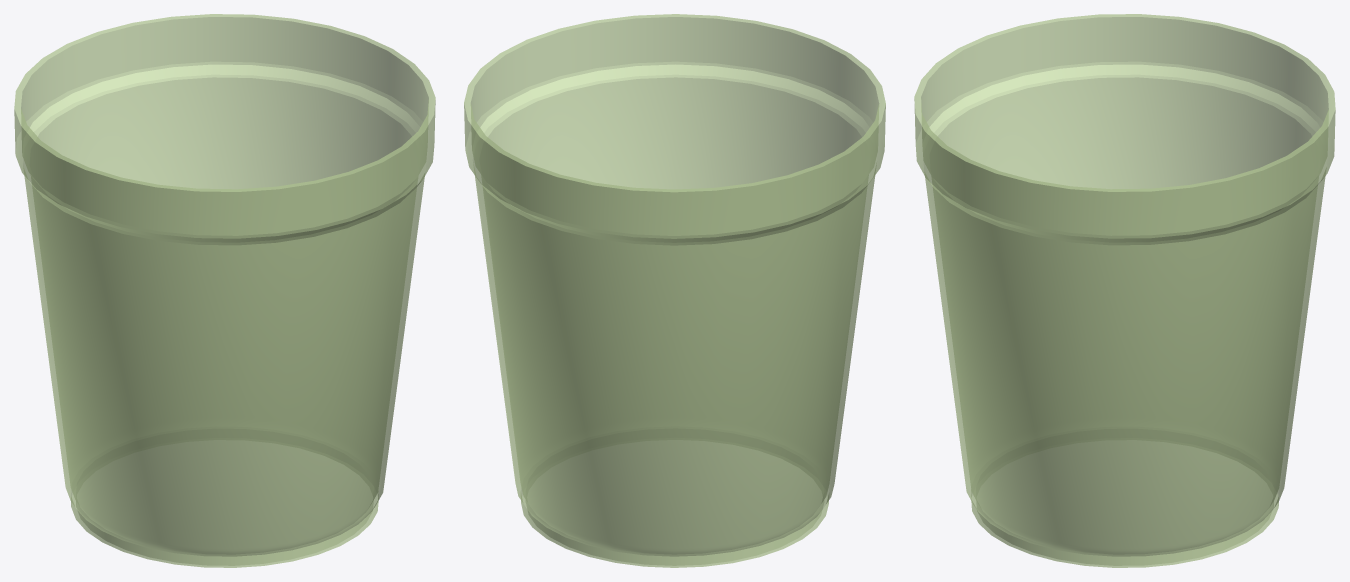
Rendered from coc1.fbx.
The picture shows the model from 3 angles, left to right: view 1: azimuth 30°, elevation 25°; view 2: azimuth 150°, elevation 25°; view 3: azimuth 270°, elevation 25°; orthographic projection.
Visible parts, largest first — view 1: Cylinder.033; view 2: Cylinder.033; view 3: Cylinder.033.
Boxes of the visible parts, <box> form: Cylinder.033: <box>14,14,435,567</box>; Cylinder.033: <box>464,14,885,567</box>; Cylinder.033: <box>914,14,1335,567</box>.
Size of the model in its own units: 69.72 by 73.05 by 69.72.
